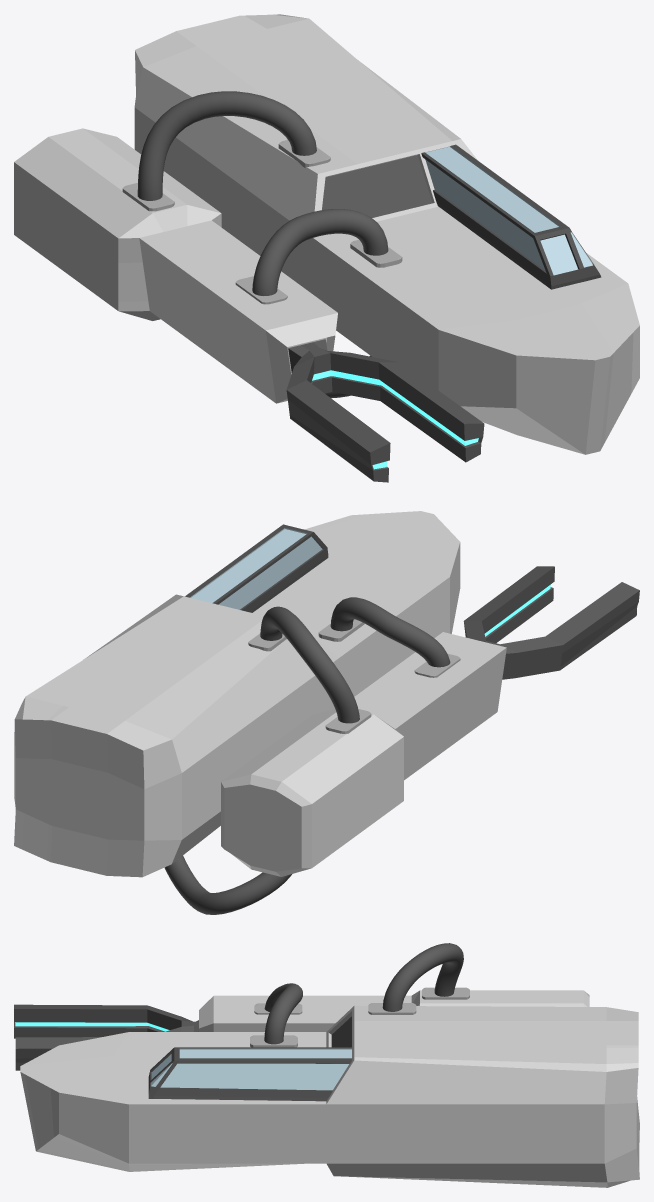
The model's file is Defender1.glb.
3 views of the same model, one above another, from view 1: azimuth 30°, elevation 25°; view 2: azimuth 150°, elevation 25°; view 3: azimuth 270°, elevation 25° (orthographic). The views are drawn at different scales.
Parts seen in each view (by area): view 1: Cube, Cube.003, Cube.010, BezierCurve.001, BezierCurve; view 2: Cube, Cube.003, Cube.010, BezierCurve.001, BezierCurve, BezierCurve.003; view 3: Cube, Cube.003, Cube.010, BezierCurve.001, BezierCurve, Cube.001, Cube.005, Cube.002.
Boxes of the visible parts, x1,y1,x2,y2 form: Cube: (134,14,639,454); Cube.003: (14,128,484,482); Cube.010: (421,144,601,289); BezierCurve.001: (137,91,316,200); BezierCurve: (252,209,388,295); Cube: (14,511,460,877); Cube.003: (221,566,639,876); Cube.010: (185,524,328,612); BezierCurve.001: (260,606,359,723); BezierCurve: (330,597,450,667); BezierCurve.003: (164,855,291,914); Cube: (20,1005,639,1187); Cube.003: (14,990,589,1070); Cube.010: (148,1047,352,1101); BezierCurve.001: (382,943,463,1011); BezierCurve: (264,983,302,1044); Cube.001: (250,1035,297,1047); Cube.005: (422,987,469,999); Cube.002: (368,1003,416,1014).
Bounding box in the file's own units: 9.17 × 7.18 × 19.15.
